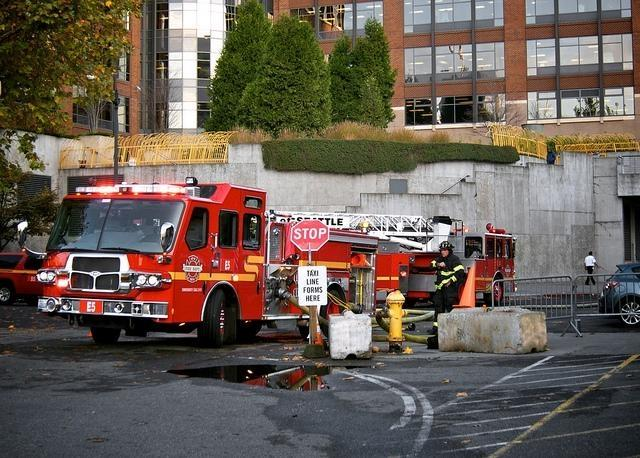car: (596, 265, 640, 326), (0, 249, 38, 304)
truck: (40, 180, 432, 350), (376, 222, 518, 312)
